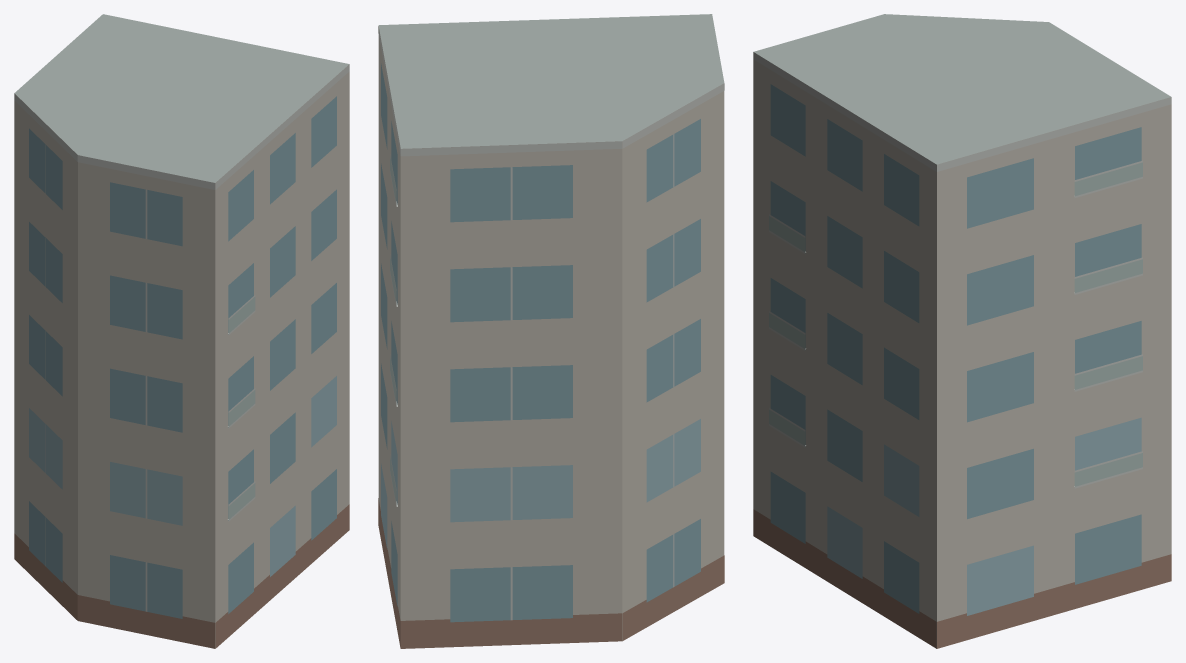
Rendered from survey-upis-32957031.glb.
The picture shows the model from 3 angles, left to right: view 1: azimuth 30°, elevation 25°; view 2: azimuth 150°, elevation 25°; view 3: azimuth 270°, elevation 25°; orthographic projection. The views are drawn at different scales.
Parts seen in each view (by area): view 1: survey-upis-32957031.tmp; view 2: survey-upis-32957031.tmp; view 3: survey-upis-32957031.tmp.
Part boxes in pixels (x1,y1,x2,y2): survey-upis-32957031.tmp: (14,14,349,648); survey-upis-32957031.tmp: (378,14,724,648); survey-upis-32957031.tmp: (753,14,1171,648).
Bounding box in the file's own units: 10.69 × 16 × 12.54.
